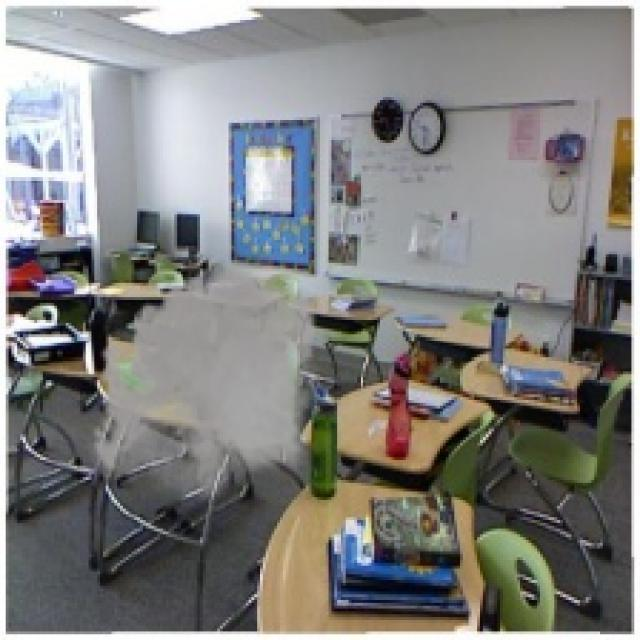Smoke: (86, 248, 326, 514)
